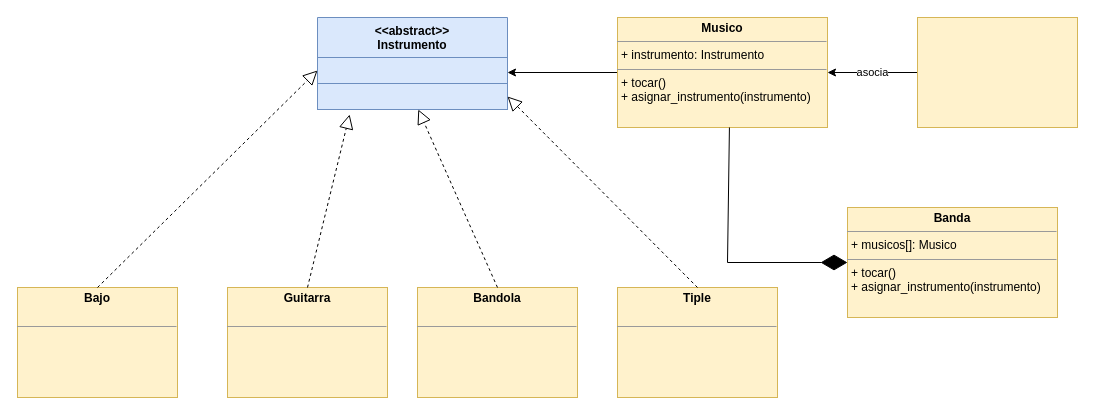
This 1095x415 diagram has some shape labels left out. Here are the shapes that lost their labels. From the top down, the centre of each, then its label:
At (412,70): "+ tocar()".
At (997,72): "Afinador + musico: Musico + instrumento: Instrumento + tocar()".
At (412,96): "+ afinar()".
